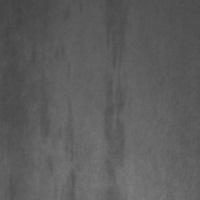inclusion: (101, 3, 134, 195), (55, 88, 87, 196), (32, 70, 58, 145)
